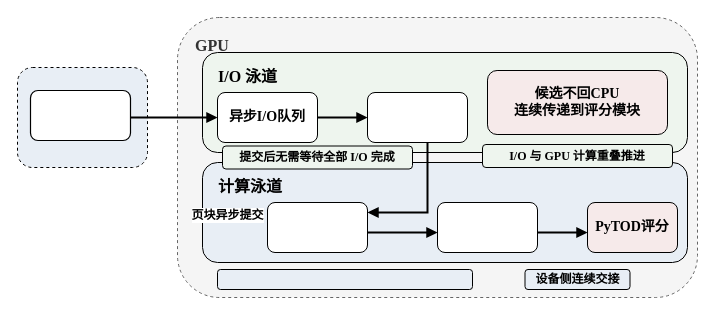
The diagram is 715 pixels wide and 315 high, and some of its shapes have lost their labels. The centre of each missing label's shape, as x and y in pixels:
"GPU候选缓存 (ID / distance / rank)" goes at (487,227).
"GPU接收" goes at (417,117).
"GPU距离计算 与扩展" goes at (317,227).
"SSD读页" goes at (80,115).
"页到达后即可触发局部距离计算和候选扩展" goes at (344,279).
